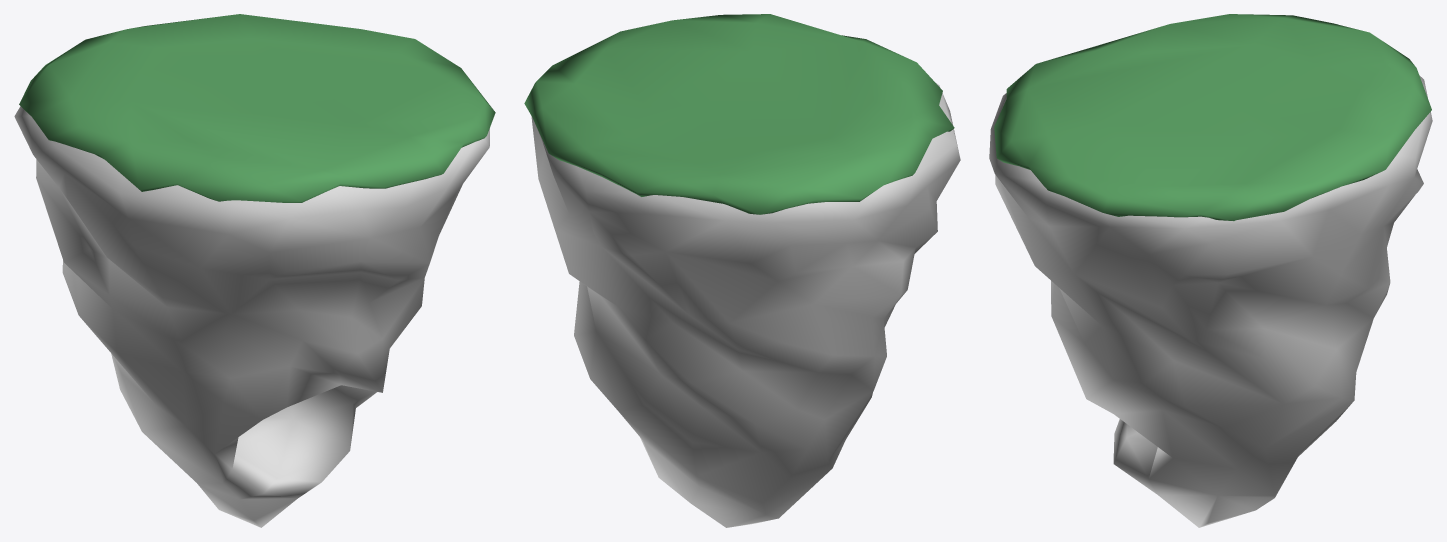
Rendered from IslandCone1LOD.fbx.
The picture shows the model from 3 angles, left to right: view 1: azimuth 30°, elevation 25°; view 2: azimuth 150°, elevation 25°; view 3: azimuth 270°, elevation 25°; orthographic projection.
Visible parts, largest first — view 1: IslandBowl1Base.002, IslandBowl1Base.003; view 2: IslandBowl1Base.002, IslandBowl1Base.003; view 3: IslandBowl1Base.002, IslandBowl1Base.003.
Part boxes in pixels (x1,y1,x2,y2): IslandBowl1Base.002: (14,106,489,527); IslandBowl1Base.003: (19,14,495,202); IslandBowl1Base.002: (531,83,960,527); IslandBowl1Base.003: (524,14,954,214); IslandBowl1Base.002: (989,75,1432,527); IslandBowl1Base.003: (994,14,1431,221).
Bounding box in the file's own units: 8320 × 8767 × 8057.
